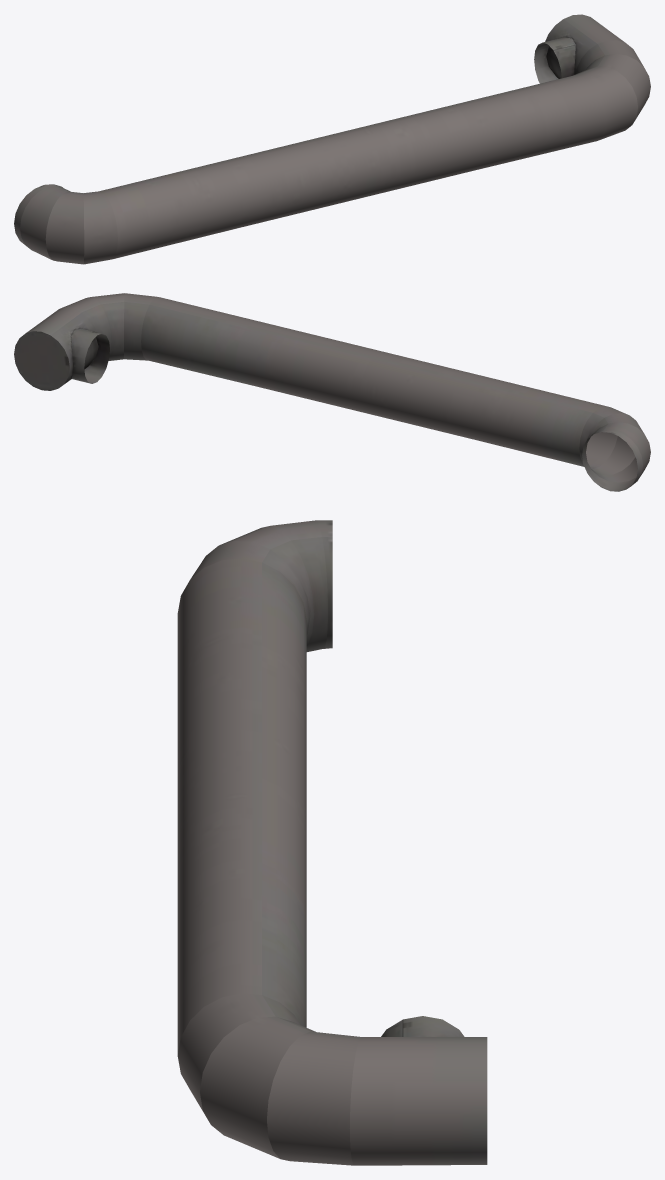
3 renders of one model, top to bottom at view 1: azimuth 30°, elevation 25°; view 2: azimuth 150°, elevation 25°; view 3: azimuth 270°, elevation 25°, orthographic. The views are drawn at different scales.
Parts seen in each view (by area): view 1: body0_model0_lod0_mesh0; view 2: body0_model0_lod0_mesh0; view 3: body0_model0_lod0_mesh0.
Part boxes in pixels (x1,y1,x2,y2): body0_model0_lod0_mesh0: [14, 14, 650, 264]; body0_model0_lod0_mesh0: [14, 293, 650, 491]; body0_model0_lod0_mesh0: [177, 520, 487, 1165].
Bounding box in the file's own units: 419 × 41.45 × 96.05.
Materials: 1 (1 with a texture image).
